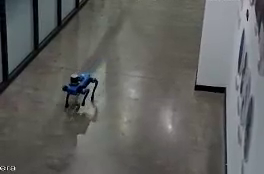robot dog: (59, 70, 97, 116)
